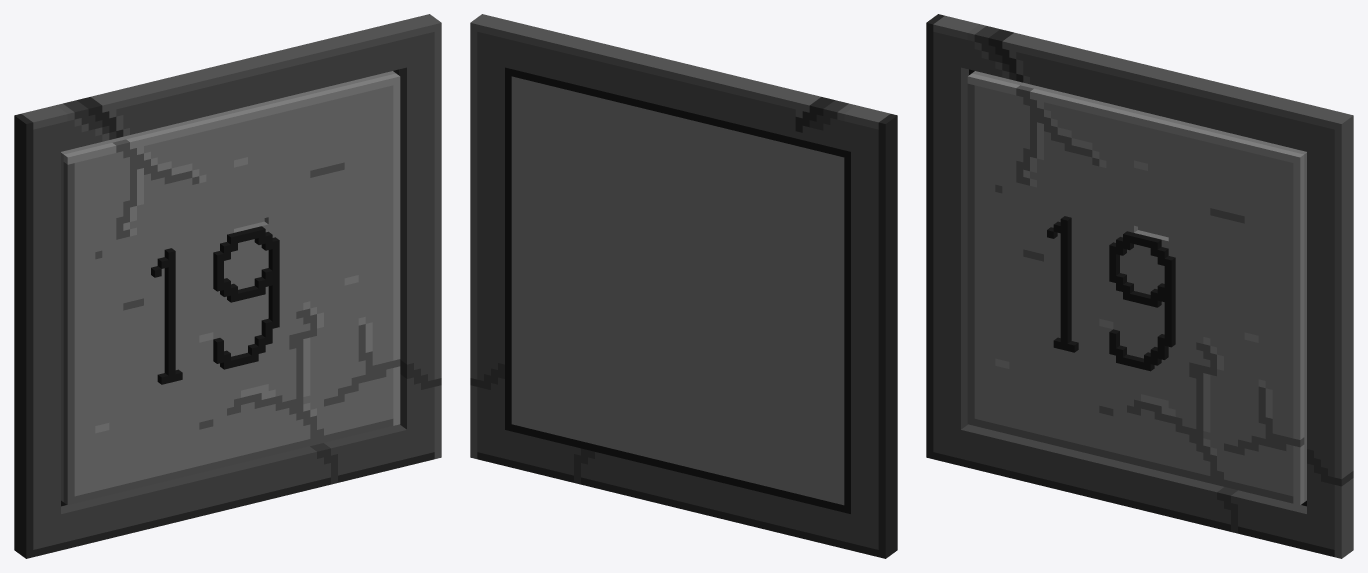
The model's file is balpan_19.obj.
3 views of the same model, side by side, from view 1: azimuth 30°, elevation 25°; view 2: azimuth 150°, elevation 25°; view 3: azimuth 330°, elevation 25° (orthographic).
Parts seen in each view (by area): view 1: balpan_19; view 2: balpan_19; view 3: balpan_19.
Part boxes in pixels (bbox=[...]): balpan_19: bbox=[14, 14, 441, 558]; balpan_19: bbox=[470, 14, 897, 558]; balpan_19: bbox=[926, 14, 1353, 558].
Size of the model in its own units: 60 by 60 by 4.
1 material, 1 textured.
